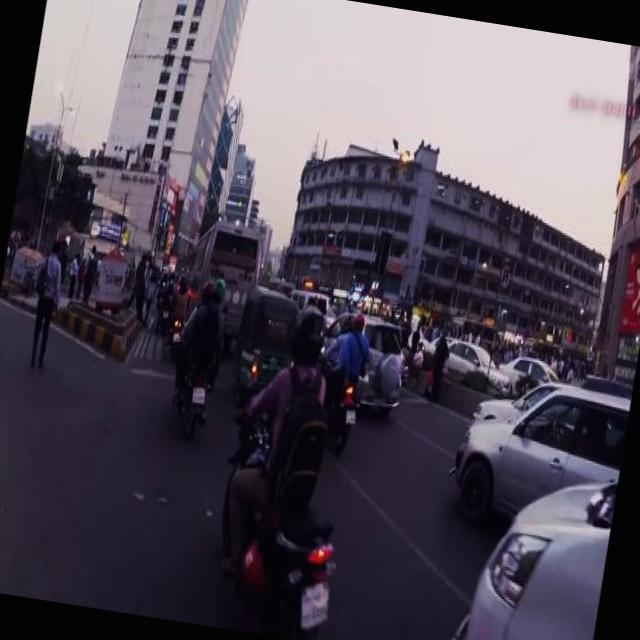bus: (178, 214, 267, 334)
car: (448, 368, 632, 524), (312, 308, 411, 412), (442, 336, 516, 389), (494, 349, 560, 394)
motorcycle: (199, 378, 363, 640), (229, 280, 301, 398), (304, 348, 362, 453), (169, 345, 216, 441), (166, 305, 186, 352), (156, 289, 173, 329)
truck: (452, 454, 616, 640), (284, 285, 330, 323)
